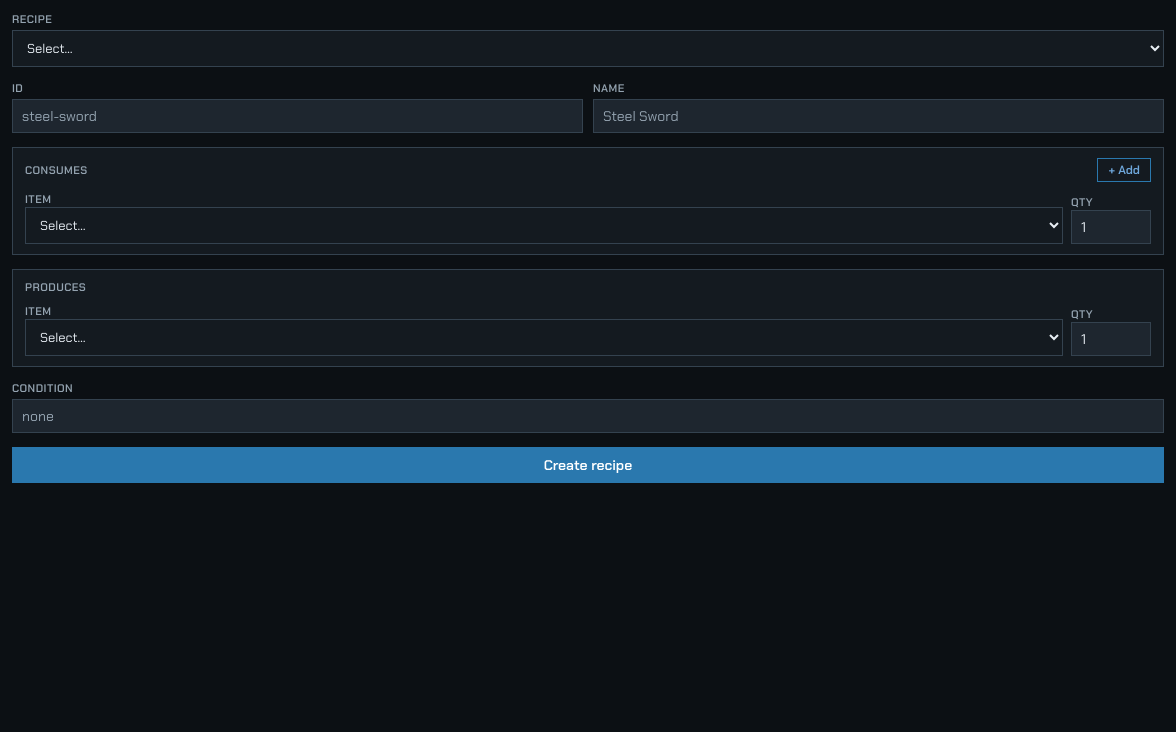
Test case: authoring a recipe › never lets the last input row be removed
The width and height of the screenshot is (1176, 732).
Click the button "+ Add" at (1124, 170), box [1097,158,1151,182]
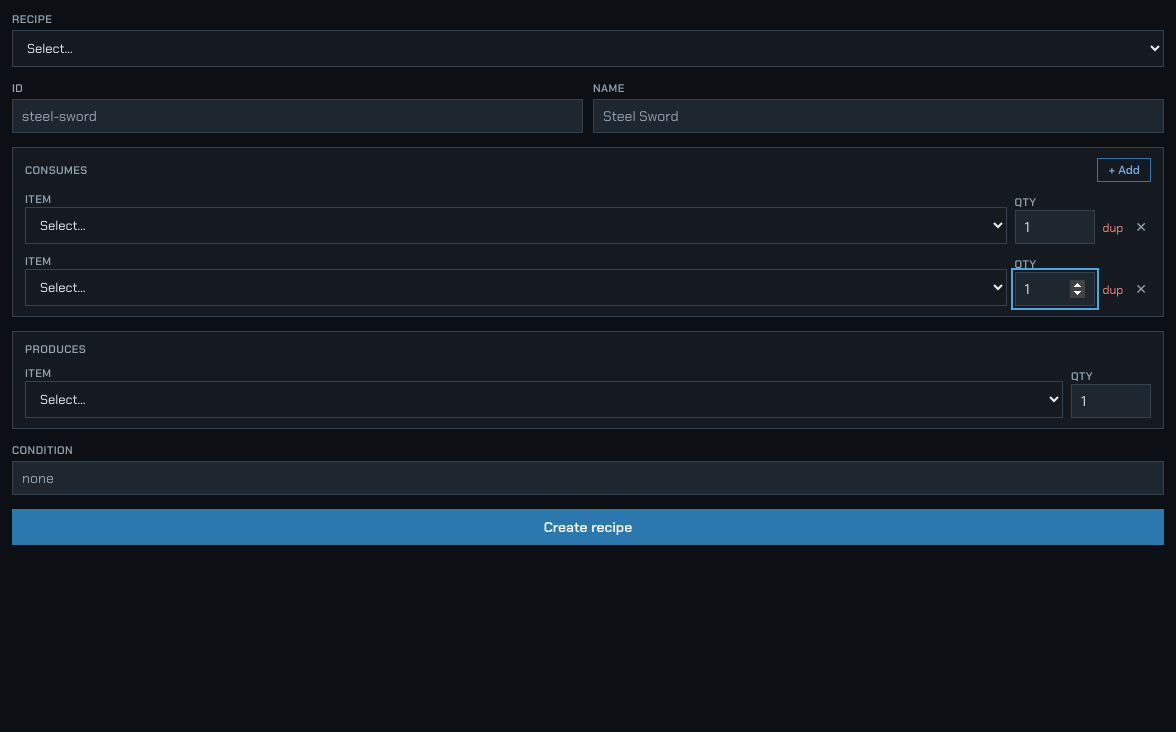
Expected: the number of buttons titled "Remove" is 2
Click the 1st button titled "Remove" at (1141, 231), box [1131,218,1151,244]
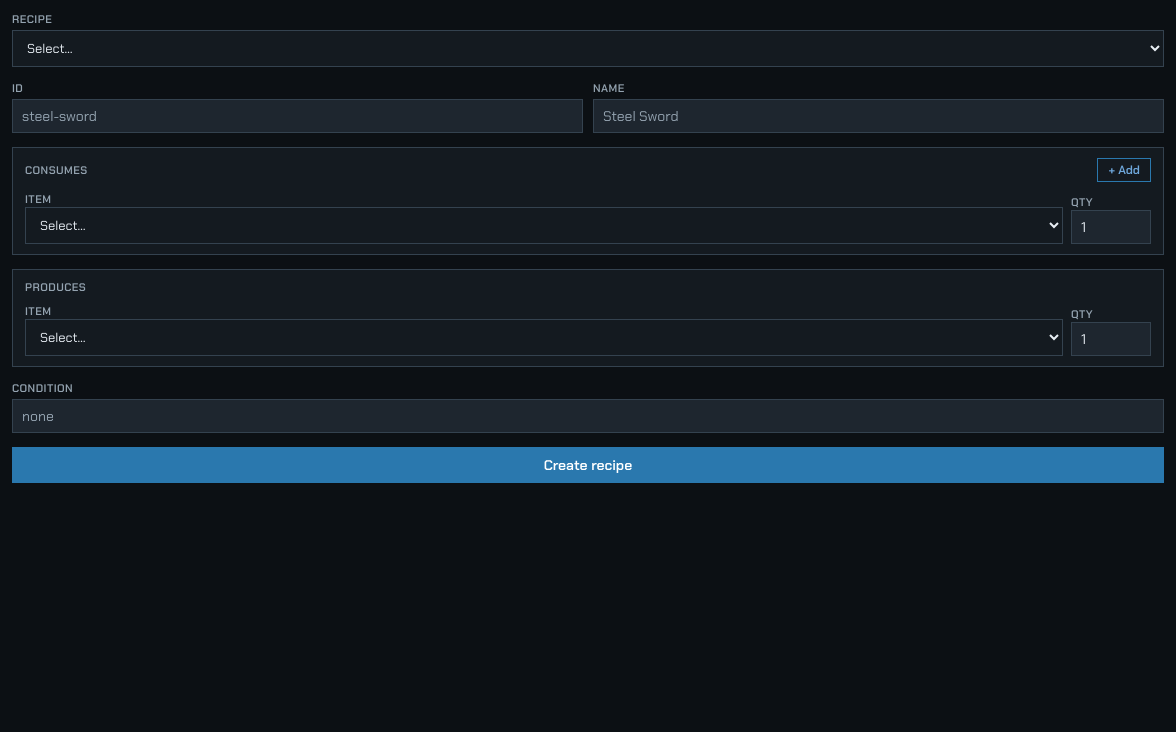
Expected: the button titled "Remove" is gone
